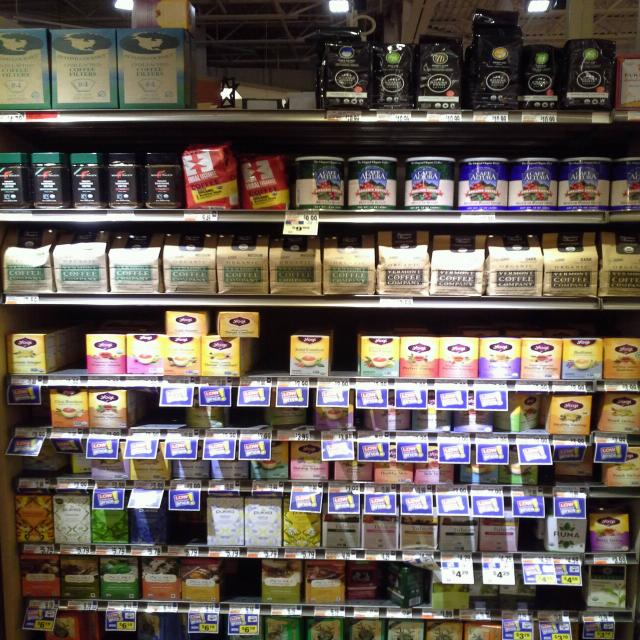unorganised: (387, 559, 427, 608), (497, 392, 541, 434), (550, 443, 596, 480), (214, 308, 261, 338), (351, 562, 381, 599), (66, 438, 92, 475)
